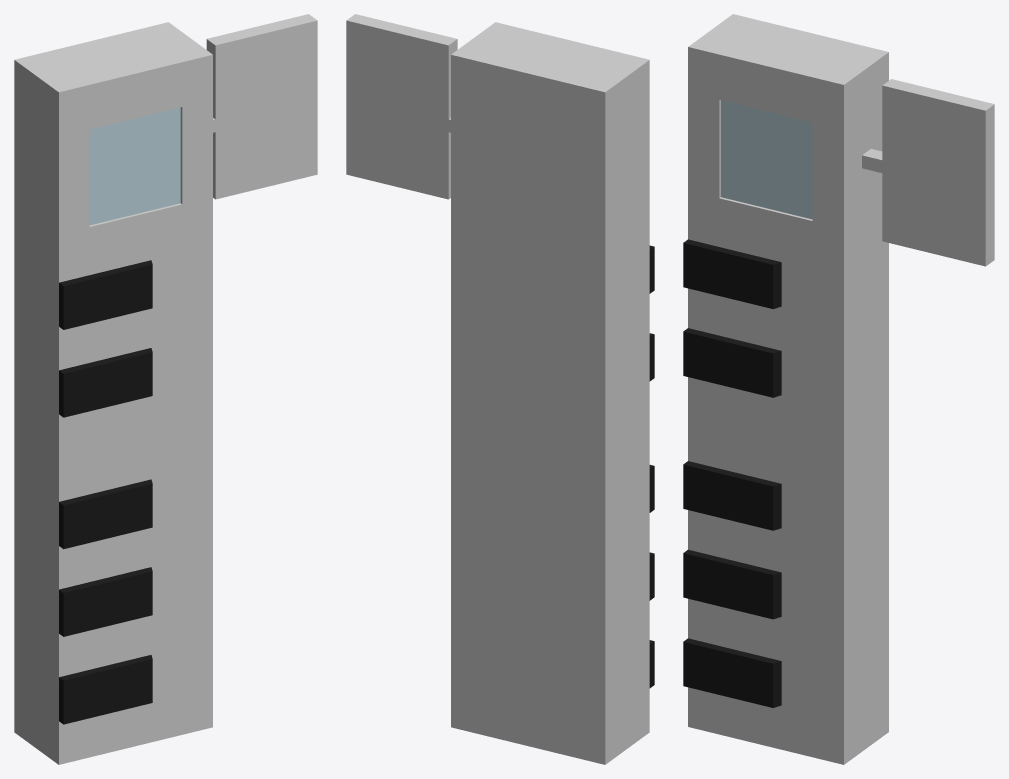
Rendered from citysign1.fbx.
The picture shows the model from 3 angles, left to right: view 1: azimuth 30°, elevation 25°; view 2: azimuth 150°, elevation 25°; view 3: azimuth 330°, elevation 25°; orthographic projection.
Visible parts, largest first — view 1: pCube1; view 2: pCube1; view 3: pCube1.
Part boxes in pixels (box(x1,y1,x2,y2)): pCube1: box(14, 14, 317, 764); pCube1: box(346, 14, 654, 764); pCube1: box(683, 14, 994, 764).
Bounding box in the file's own units: 10.76 × 25 × 3.32.
